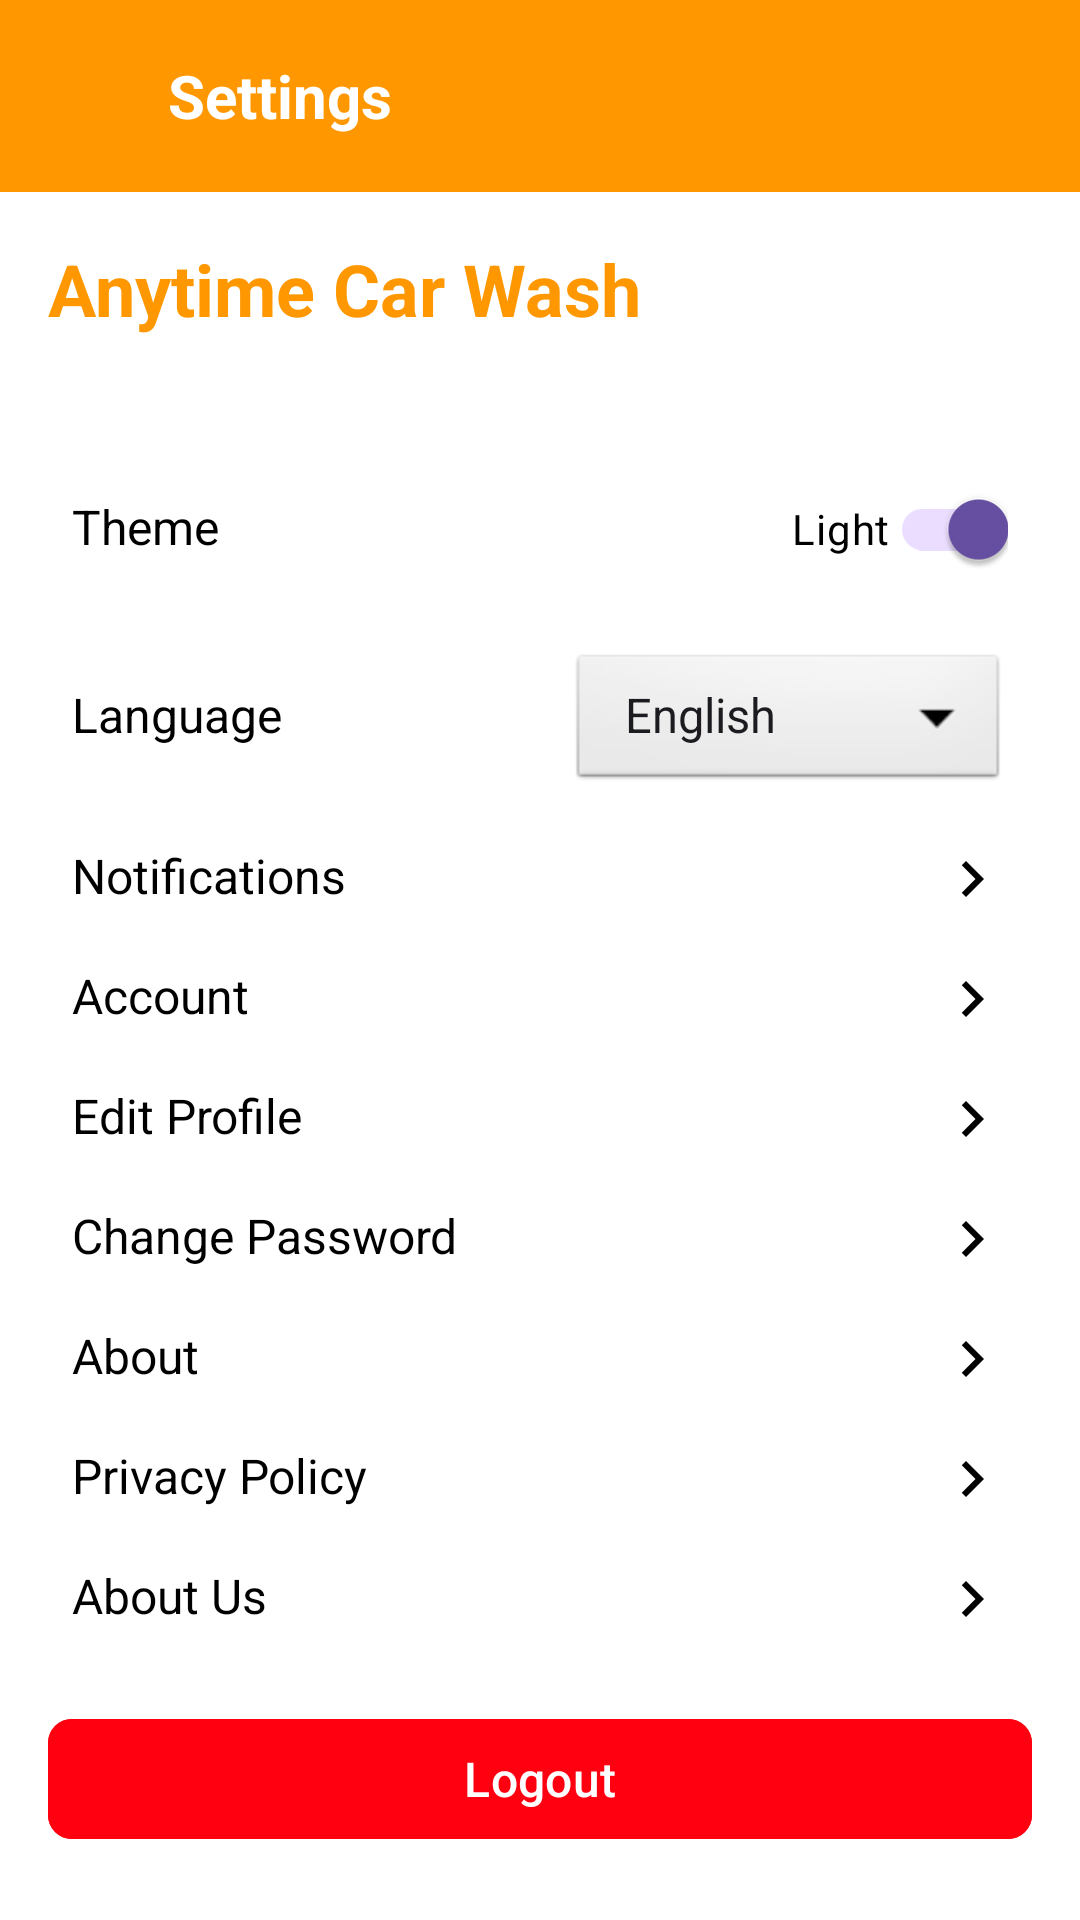

Where to tap for icons on this 1080×1920 app screen, as [x,y]:
Navigate: [973,879], [973,999], [973,1119], [973,1239], [973,1359], [973,1479], [973,1599]
